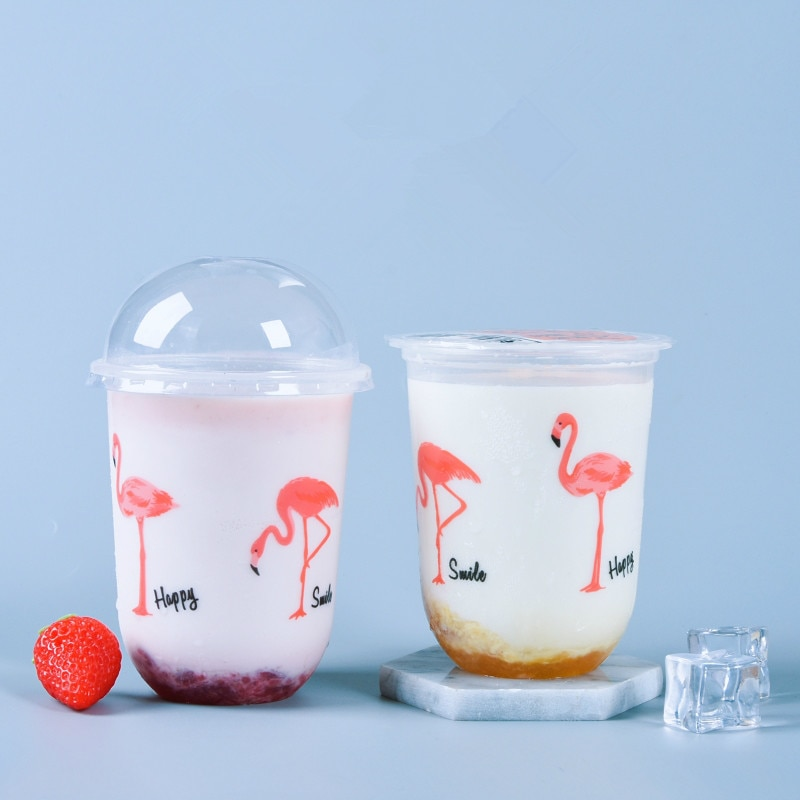plastic_glass: (82, 253, 377, 714), (383, 324, 679, 685)
